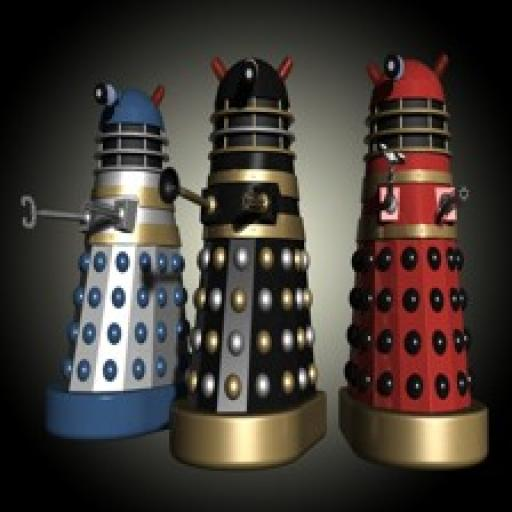dalek: (157, 48, 332, 466), (338, 45, 504, 470), (16, 75, 188, 440)
